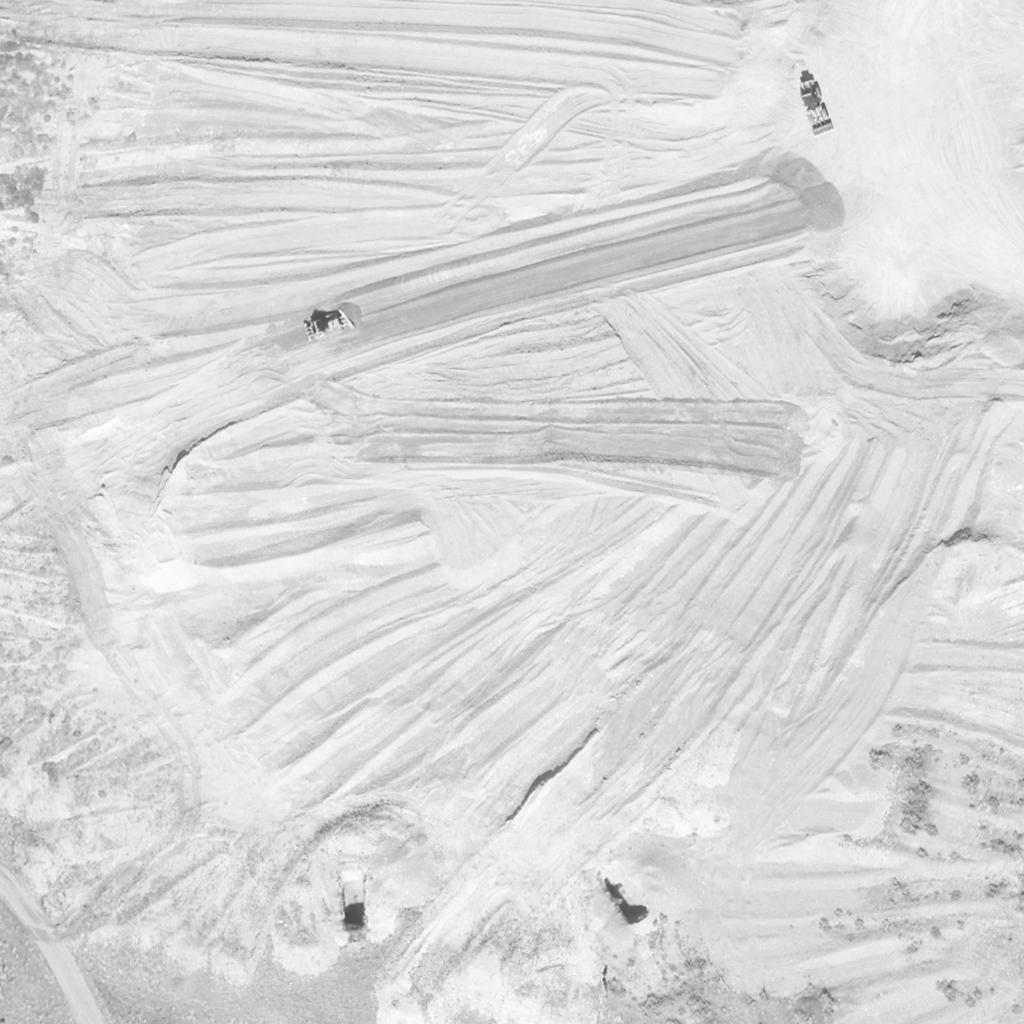vehicle: (792, 75, 838, 139), (299, 307, 357, 345)
